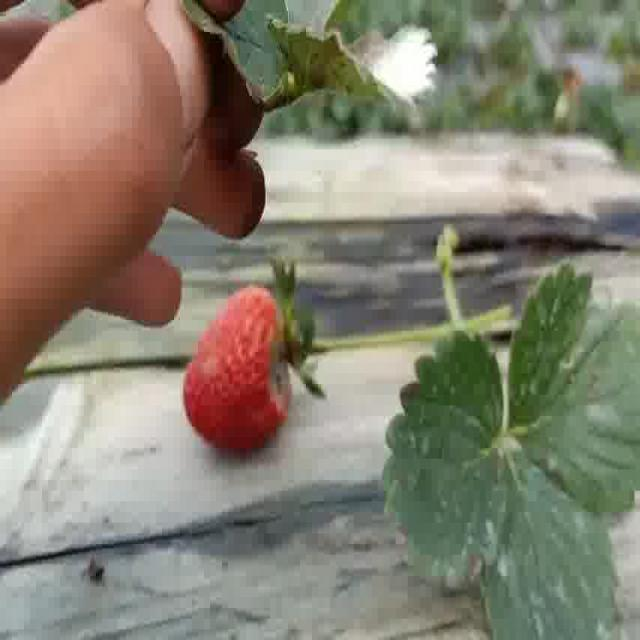Mancha negra Antracnosis: (182, 284, 299, 458)
